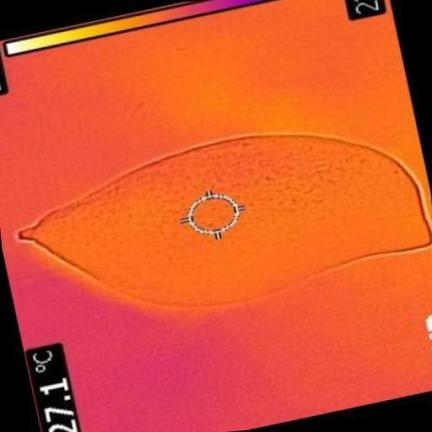mango: (20, 136, 430, 307)
